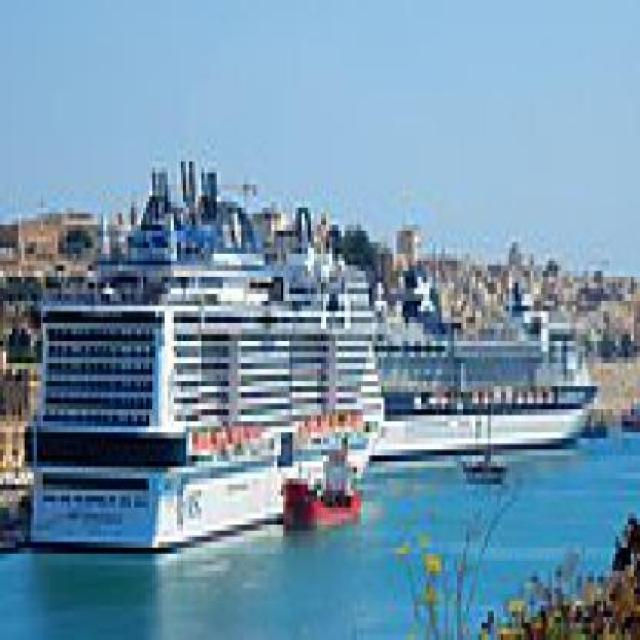cruise: (25, 150, 391, 555)
